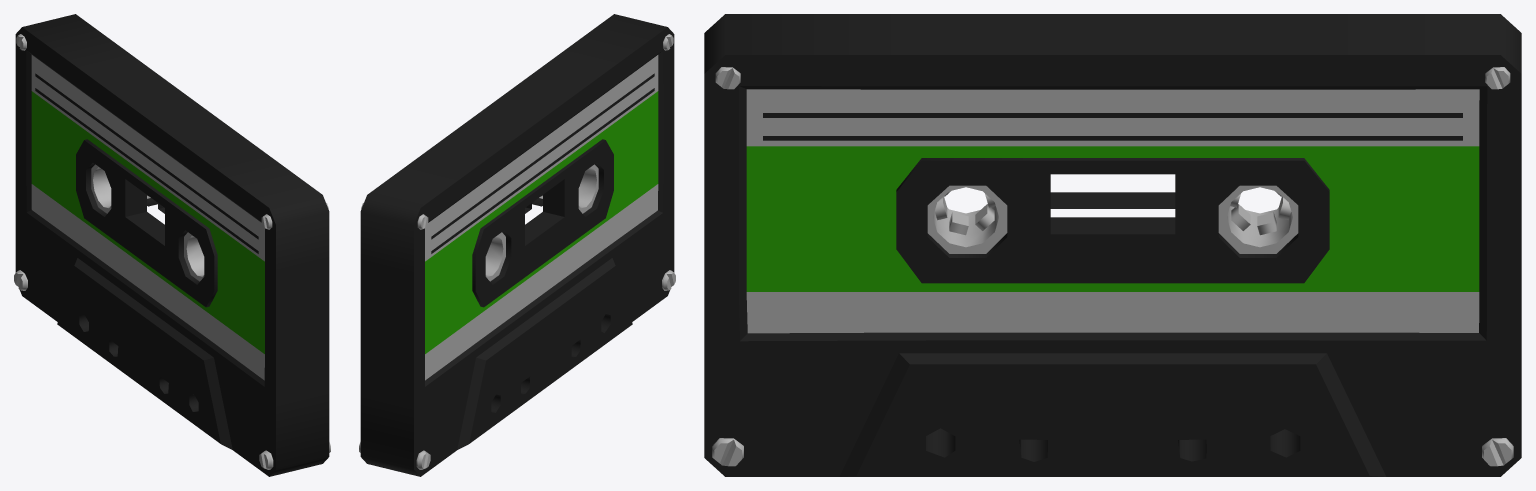
The model's file is CASETTE.glb.
3 renders of one model, left to right at view 1: azimuth 30°, elevation 25°; view 2: azimuth 150°, elevation 25°; view 3: azimuth 270°, elevation 25°, orthographic. The views are drawn at different scales.
Visible parts, largest first — view 1: Box030; view 2: Box030; view 3: Box030.
Boxes of the visible parts, box(x1,y1,x2,y2) form: Box030: box(14, 14, 330, 476); Box030: box(359, 14, 675, 476); Box030: box(704, 14, 1521, 476).
Size of the model in its own units: 45.75 by 176 by 308.
